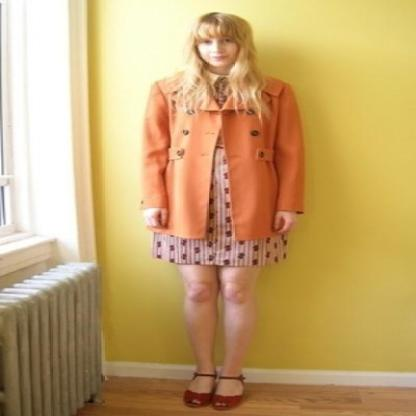dress: (137, 77, 291, 269)
jacket: (131, 78, 306, 250)
shoe: (181, 369, 236, 410)
